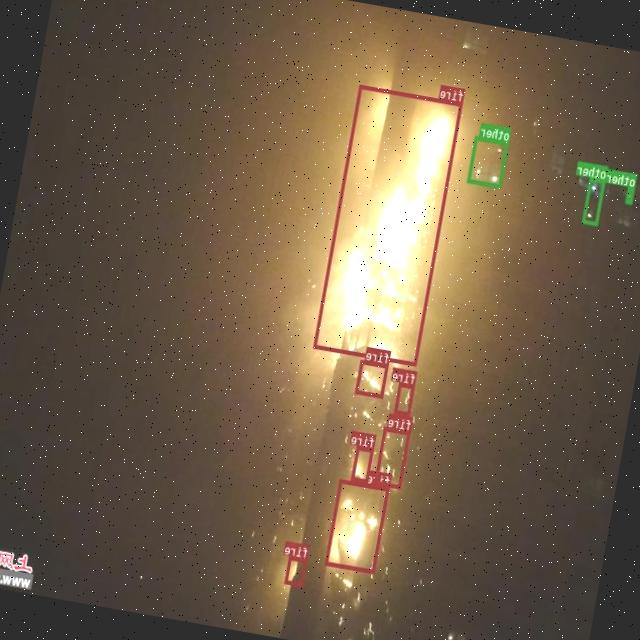fire: (314, 84, 464, 366), (325, 478, 390, 573), (374, 426, 412, 488), (356, 360, 388, 398), (352, 444, 374, 482), (284, 554, 308, 586), (394, 382, 414, 416)
